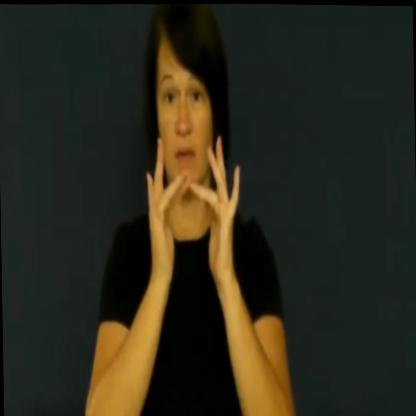Internet: (146, 132, 245, 299)
